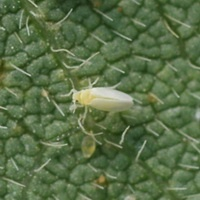insect: (71, 86, 132, 111)
